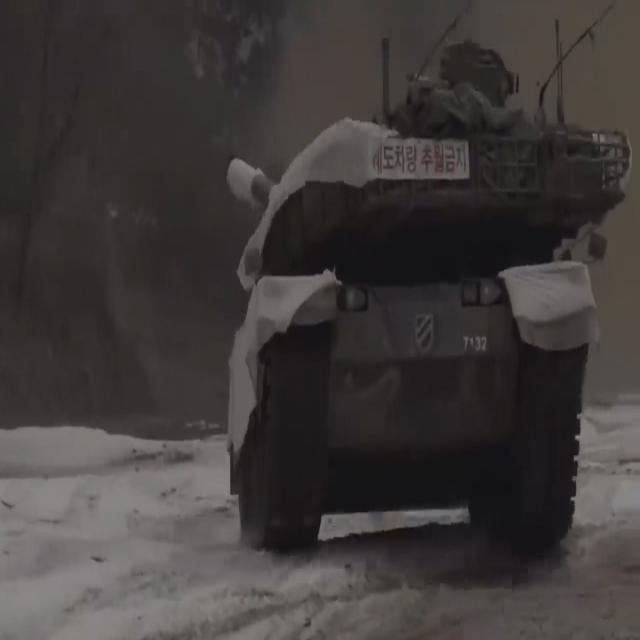korea tank: (227, 39, 633, 557)
